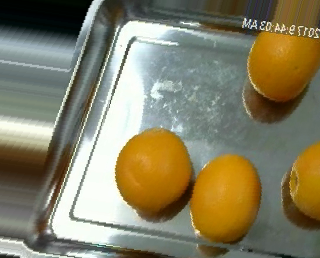Orange: (113, 128, 193, 212), (191, 154, 263, 243)
